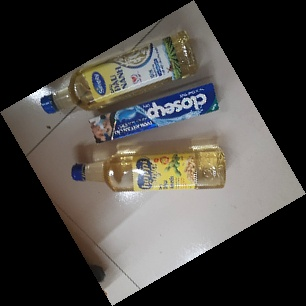CloseUp Tuyet: (89, 82, 222, 146)
Happy Soya: (70, 145, 227, 193)
Simply: (41, 27, 201, 115)
